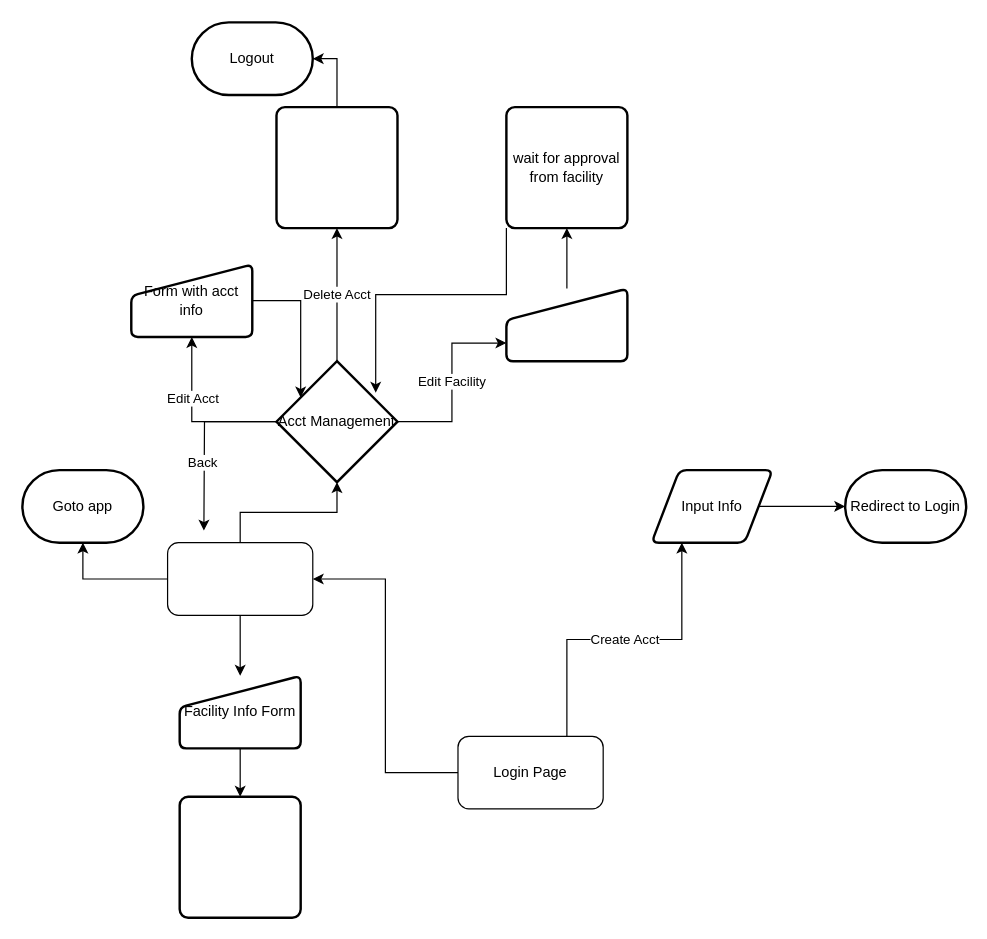
Some shapes in this 987 by 939 pixel diagram are drawn without their labels. Here are the shapes that lost their labels. From the top down, the centre of each, then its label:
At (336,167): "Set account status to inactive".
At (566,324): "Change Facility ID".
At (239,578): "Post login Page".
At (239,856): "Create Facility, set manager, give code".
